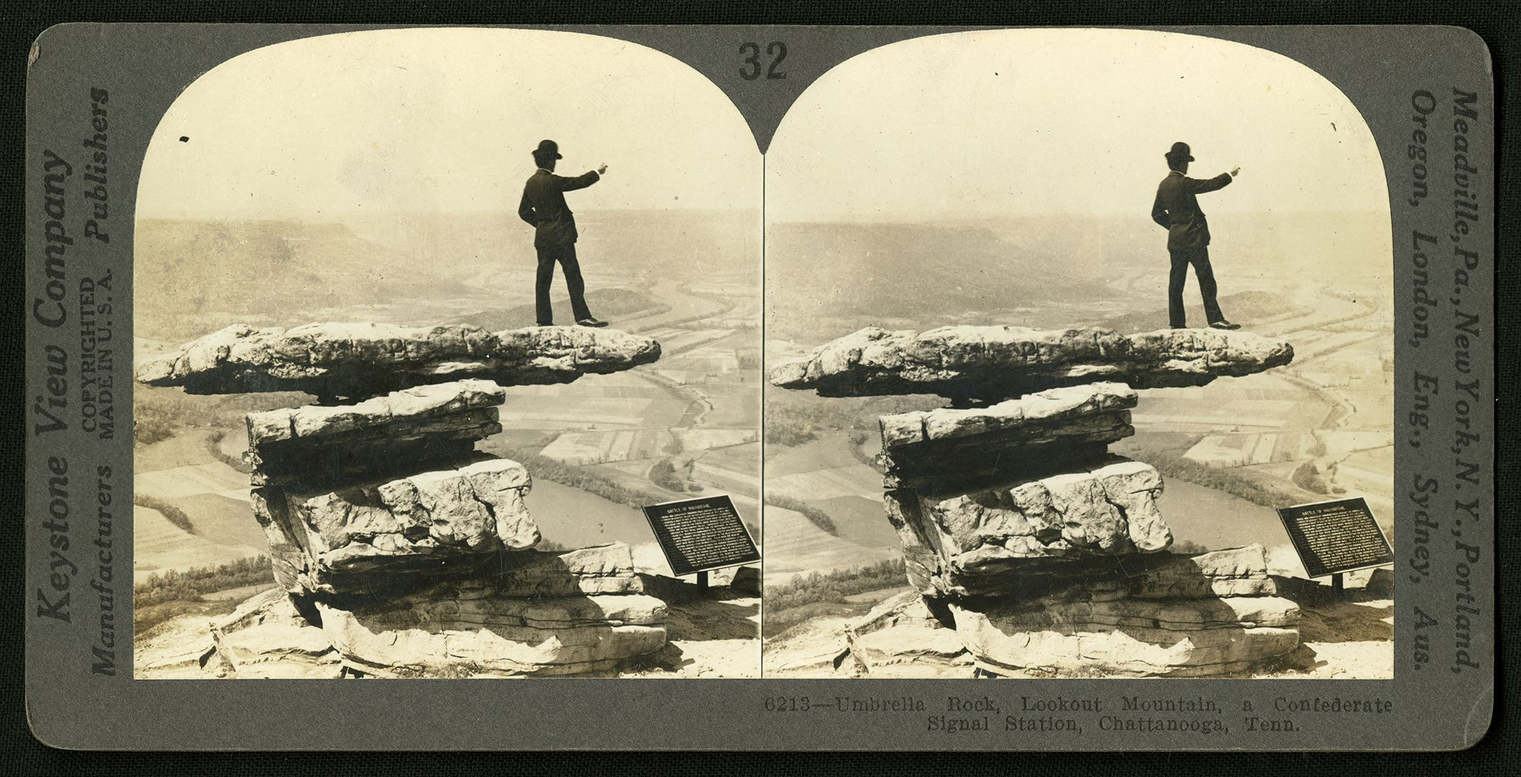half_image: (763, 29, 1395, 680), (134, 29, 761, 679)
